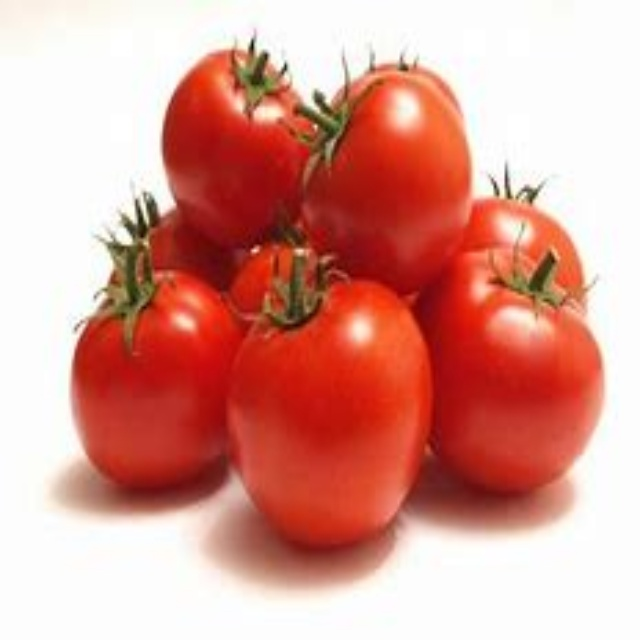tomato: (220, 276, 449, 558), (429, 193, 605, 505), (57, 264, 243, 488), (306, 66, 467, 293), (150, 48, 312, 236)
